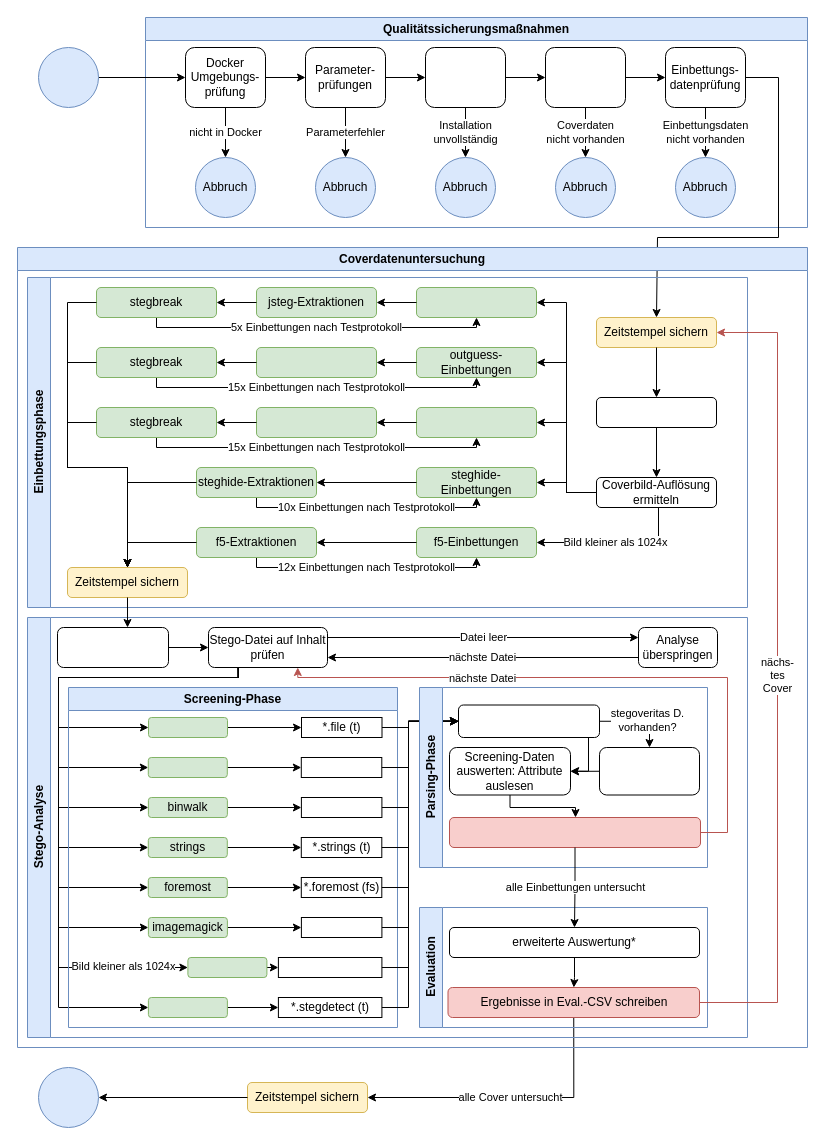
This 825x1145 diagram has some shape labels left out. The centre of each missing label's shape, as x and y in pixels:
"*.binwalk (t)" goes at (x=341, y=807).
"*.exiftool (t)" goes at (x=341, y=767).
"*.identify (t)" goes at (x=341, y=927).
"*.stegoveritas (fs)" goes at (x=329, y=967).
"Coverdaten-prüfung" goes at (x=585, y=77).
"CSV-Header für Analyse vorbereiten" goes at (x=112, y=647).
"Differenzbilder auswerten" goes at (x=649, y=770).
"Einbettungsdaten: Prüfsummen vergleichen" goes at (x=529, y=721).
"Einbettungsmeta erstellen (CSV)" goes at (x=656, y=412).
"Ende" goes at (x=68, y=1097).
"Ergebnisse in Cover-CSV schreiben" goes at (x=574, y=832).
"exiftool" goes at (x=187, y=767).
"file" goes at (x=188, y=727).
"jsteg-Einbettungen" goes at (x=476, y=302).
"outguess-0.13-Einbettungen" goes at (x=476, y=422).
"outguess-0.13-Extraktionen" goes at (x=316, y=422).
"outguess-Extraktionen" goes at (x=316, y=362).
"Start" goes at (x=68, y=77).
"stegdetect" goes at (x=187, y=1007).
"stegoveritas" goes at (x=227, y=967).
"Tool-Setup prüfen" goes at (x=465, y=77).
